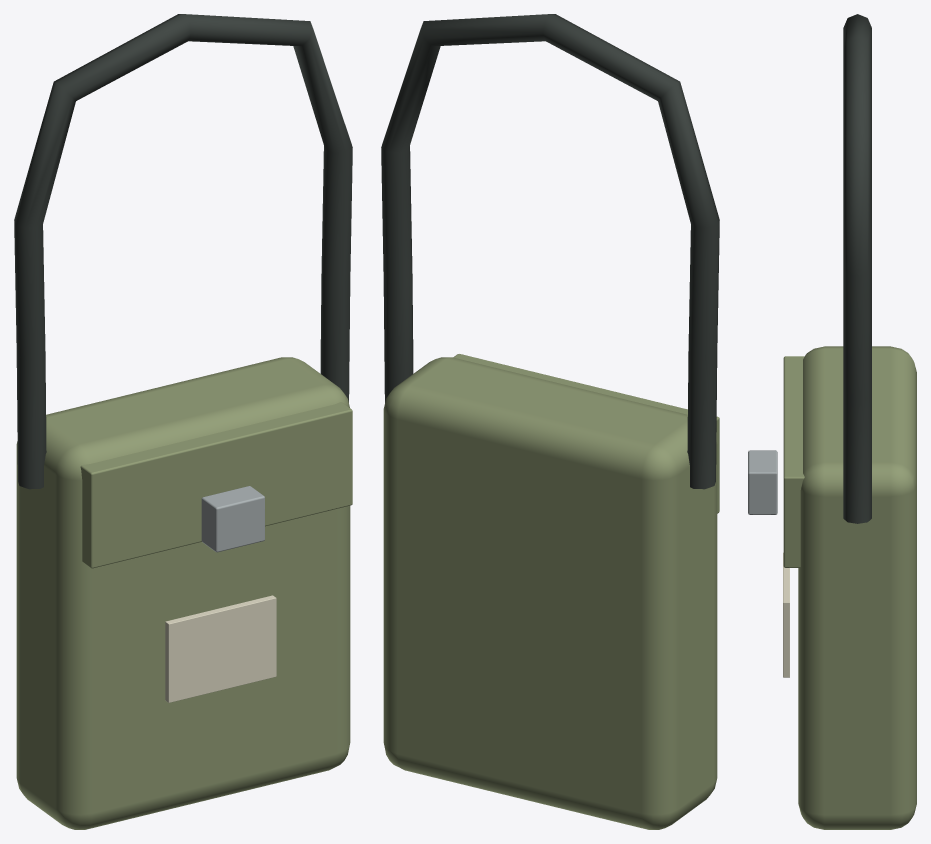
File: extraction-routes-and-objectives-courier-satchel-08459113__22156.glb
3 views of the same model, side by side, from view 1: azimuth 30°, elevation 25°; view 2: azimuth 150°, elevation 25°; view 3: azimuth 270°, elevation 25° (orthographic). The views are drawn at different scales.
Parts seen in each view (by area): view 1: courier-satchel, flap/canvas; view 2: courier-satchel, flap/canvas; view 3: courier-satchel, flap/canvas.
Part boxes in pixels (left/top/right/bottom): courier-satchel: left=14, top=14, right=352, bottom=829; flap/canvas: left=80, top=402, right=352, bottom=568; courier-satchel: left=381, top=14, right=719, bottom=829; flap/canvas: left=453, top=354, right=719, bottom=513; courier-satchel: left=748, top=14, right=916, bottom=829; flap/canvas: left=783, top=356, right=804, bottom=567.
Bounding box in the file's own units: 0.3111 × 0.6833 × 0.1425.
